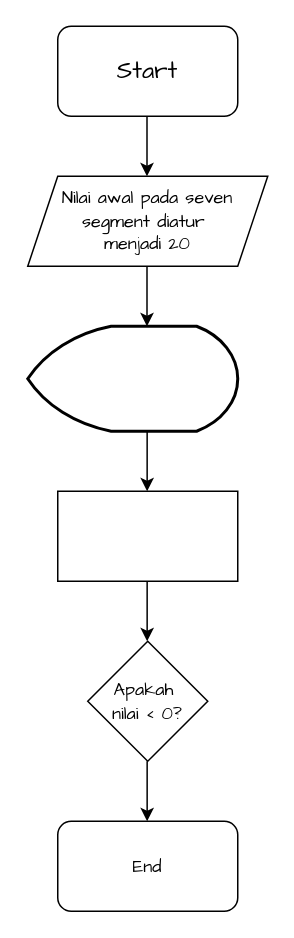
This 294x938 diagram has some shape labels left out. Each missing label, with the centre of its shape:
Angka pada seven segment ditampilkan sesuai dengan nilai yang ada: the point at 132,378
Nilai pada seven segment dikurang 1: the point at 147,535
